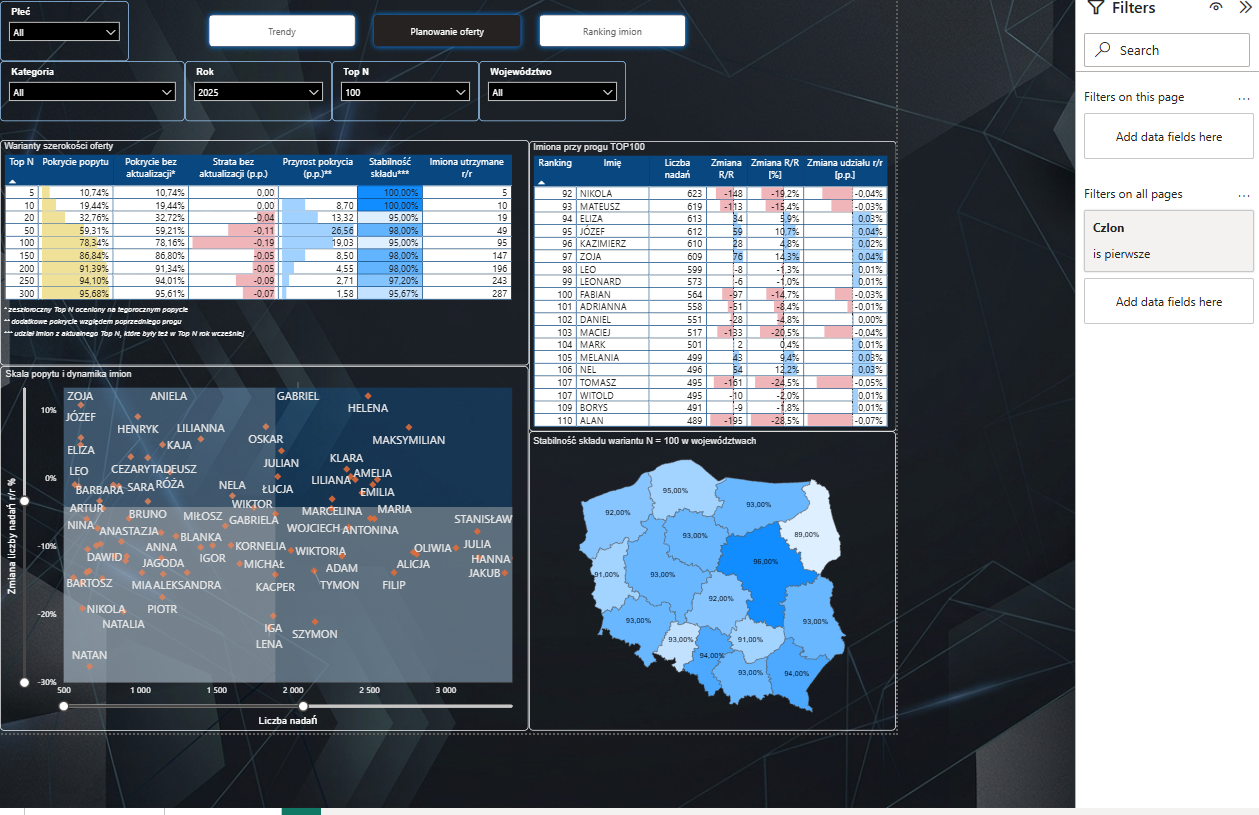

The page's visual inventory and layout, read from the dashboard file:
{"tool":"powerbi","page":{"name":"Planowanie oferty","canvas":[1280,1050],"ordinal":1},"visuals":[{"type":"scatterChart","title":"Skala popytu i dynamika imion","fields":{"Category":["Imiona.IMIE"],"X":["Miary.Liczba nadań"],"Y":["Miary.Zmiana liczby nadań r/r %"]},"box":[0,525,755,521.2],"z":0},{"type":"slicer","fields":{"Values":["Imiona.PLEC"]},"box":[0,4.3,184.3,85.7],"z":1000},{"type":"pageNavigator","box":[290,16.2,700,62.5],"z":2000},{"type":"slicer","fields":{"Values":["TopN.Top N"]},"box":[474.3,90,210,85.7],"z":3000},{"type":"slicer","fields":{"Values":["Imiona.Rok"]},"box":[264.3,90,210,85.7],"z":4000},{"type":"slicer","fields":{"Values":["Kategorie.KATEGORIA"]},"box":[0,90,264.3,85.7],"z":5000},{"type":"slicer","fields":{"Values":["Imiona.Województwo - nazwa do mapy"]},"box":[684.3,90,210,85.7],"z":6000},{"type":"tableEx","title":"Warianty szerokości oferty","fields":{"Values":["TopN.Top N","Imiona.Udział TOP","Imiona.Pokrycie zeszłorocznej oferty","Imiona.Strata bez aktualizacji","Miary.Przyrost pokrycia","Miary.Stabilność składu","Imiona.Imiona utrzymane r/r"]},"box":[0,203.3,755.6,322.2],"z":7000},{"type":"textbox","box":[0,430,518.3,80],"z":8000},{"type":"shapeMap","fields":{"Category":["imiona_woj_wszystkie_lata.Column"],"Value":["Miary.Stabilność składu"]},"box":[755.6,618.9,524.4,427.8],"z":9000},{"type":"card","fields":{"Values":["Miary.Stabilność składu"]},"box":[990,926.7,55.6,30],"z":10000},{"type":"card","fields":{"Values":["Miary.Stabilność składu"]},"box":[1045,952,53.8,23.8],"z":11000},{"type":"card","fields":{"Values":["Miary.Stabilność składu"]},"box":[1111.1,951.1,54.4,23.3],"z":12000},{"type":"card","fields":{"Values":["Miary.Stabilność składu"]},"box":[1138.9,877.8,53.3,24.4],"z":13000},{"type":"card","fields":{"Values":["Miary.Stabilność składu"]},"box":[1125.6,752.2,54.4,24.4],"z":14000},{"type":"card","fields":{"Values":["Miary.Stabilność składu"]},"box":[1056.7,710,54.4,24.4],"z":15000},{"type":"card","fields":{"Values":["Miary.Stabilność składu"]},"box":[938.9,691.1,53.3,25.6],"z":16000},{"type":"card","fields":{"Values":["Miary.Stabilność składu"]},"box":[1066.7,793.3,54.4,28.9],"z":17000},{"type":"card","fields":{"Values":["Miary.Stabilność składu"]},"box":[965.6,752.2,55.6,35.6],"z":18000},{"type":"card","fields":{"Values":["Miary.Stabilność składu"]},"box":[857.8,722.2,52.2,30],"z":19000},{"type":"card","fields":{"Values":["Miary.Stabilność składu"]},"box":[920,810,54.4,24.4],"z":20000},{"type":"card","fields":{"Values":["Miary.Stabilność składu"]},"box":[1004.3,844.9,52.9,24.3],"z":21000},{"type":"card","fields":{"Values":["Miary.Stabilność składu"]},"box":[1045.6,902.2,53.3,24.4],"z":22000},{"type":"card","fields":{"Values":["Miary.Stabilność składu"]},"box":[947.8,902.2,52.2,24.4],"z":23000},{"type":"card","fields":{"Values":["Miary.Stabilność składu"]},"box":[885.6,876.7,53.3,25.6],"z":24000},{"type":"card","fields":{"Values":["Miary.Stabilność składu"]},"box":[840,810,54.4,24.4],"z":25000},{"type":"tableEx","fields":{"Values":["Imiona.Ranking imienia - pełny","Imiona.IMIE","Miary.Liczba nadań - pełny ranking","Imiona.Zmiana R/R - pełny ranking","Imiona.Zmiana R/R (%) - pełny ranking","Imiona.Zmiana udziału r/r - pełny ranking"]},"box":[755,203.8,525,415],"z":26001}]}

Visuals, with their boxes on the page's 1280x1050 design canvas (x1, y1, x2, y2). These are canvas units, not pixel positions in the 1259x815 screenshot, which may show the page scaled, cropped or inside an application window:
"Skala popytu i dynamika imion" scatterChart: 0, 525, 755, 1046
slicer - Imiona.PLEC: 0, 4, 184, 90
pageNavigator: 290, 16, 990, 79
slicer - TopN.Top N: 474, 90, 684, 176
slicer - Imiona.Rok: 264, 90, 474, 176
slicer - Kategorie.KATEGORIA: 0, 90, 264, 176
slicer - Imiona.Województwo - nazwa do mapy: 684, 90, 894, 176
"Warianty szerokości oferty" tableEx: 0, 203, 756, 526
textbox: 0, 430, 518, 510
shapeMap - imiona_woj_wszystkie_lata.Column x Miary.Stabilność składu: 756, 619, 1280, 1047
card - Miary.Stabilność składu: 990, 927, 1046, 957
card - Miary.Stabilność składu: 1045, 952, 1099, 976
card - Miary.Stabilność składu: 1111, 951, 1166, 974
card - Miary.Stabilność składu: 1139, 878, 1192, 902
card - Miary.Stabilność składu: 1126, 752, 1180, 777
card - Miary.Stabilność składu: 1057, 710, 1111, 734
card - Miary.Stabilność składu: 939, 691, 992, 717
card - Miary.Stabilność składu: 1067, 793, 1121, 822
card - Miary.Stabilność składu: 966, 752, 1021, 788
card - Miary.Stabilność składu: 858, 722, 910, 752
card - Miary.Stabilność składu: 920, 810, 974, 834
card - Miary.Stabilność składu: 1004, 845, 1057, 869
card - Miary.Stabilność składu: 1046, 902, 1099, 927
card - Miary.Stabilność składu: 948, 902, 1000, 927
card - Miary.Stabilność składu: 886, 877, 939, 902
card - Miary.Stabilność składu: 840, 810, 894, 834
tableEx - Imiona.Ranking imienia - pełny x Imiona.IMIE: 755, 204, 1280, 619
